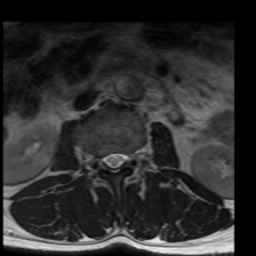CCS_normal: (110, 145, 117, 179)
LFS_normal: (126, 143, 135, 174)
LLS_normal: (117, 145, 126, 173)
RFS_normal: (92, 148, 101, 176)
RLS_stenosis: (101, 148, 110, 173)
